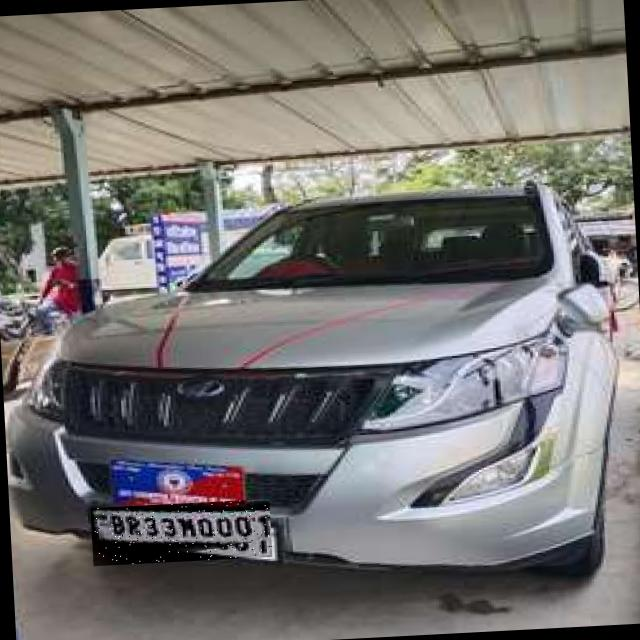Plate: (92, 500, 274, 567)
